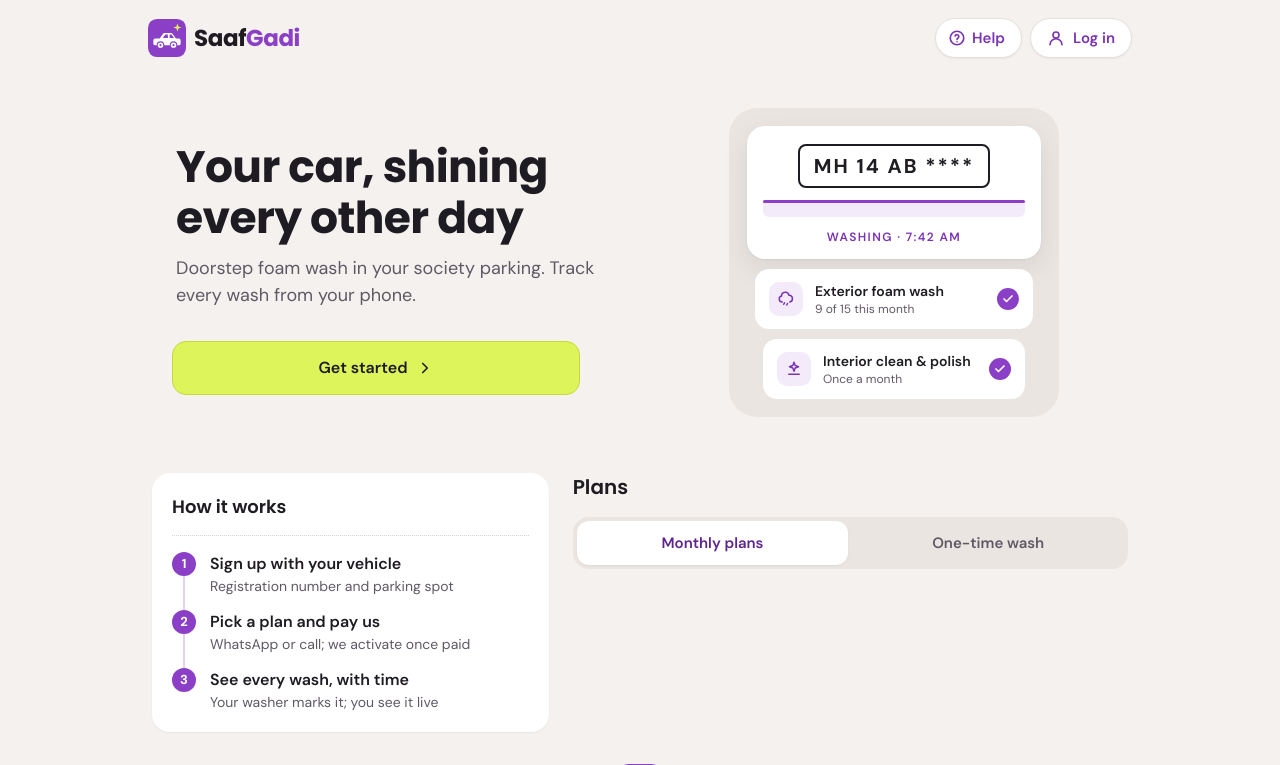
it: landing page › popover shows sign-up and the numbers from settings
Click the button "Help".
click(978, 38)  # box [935, 18, 1022, 58]
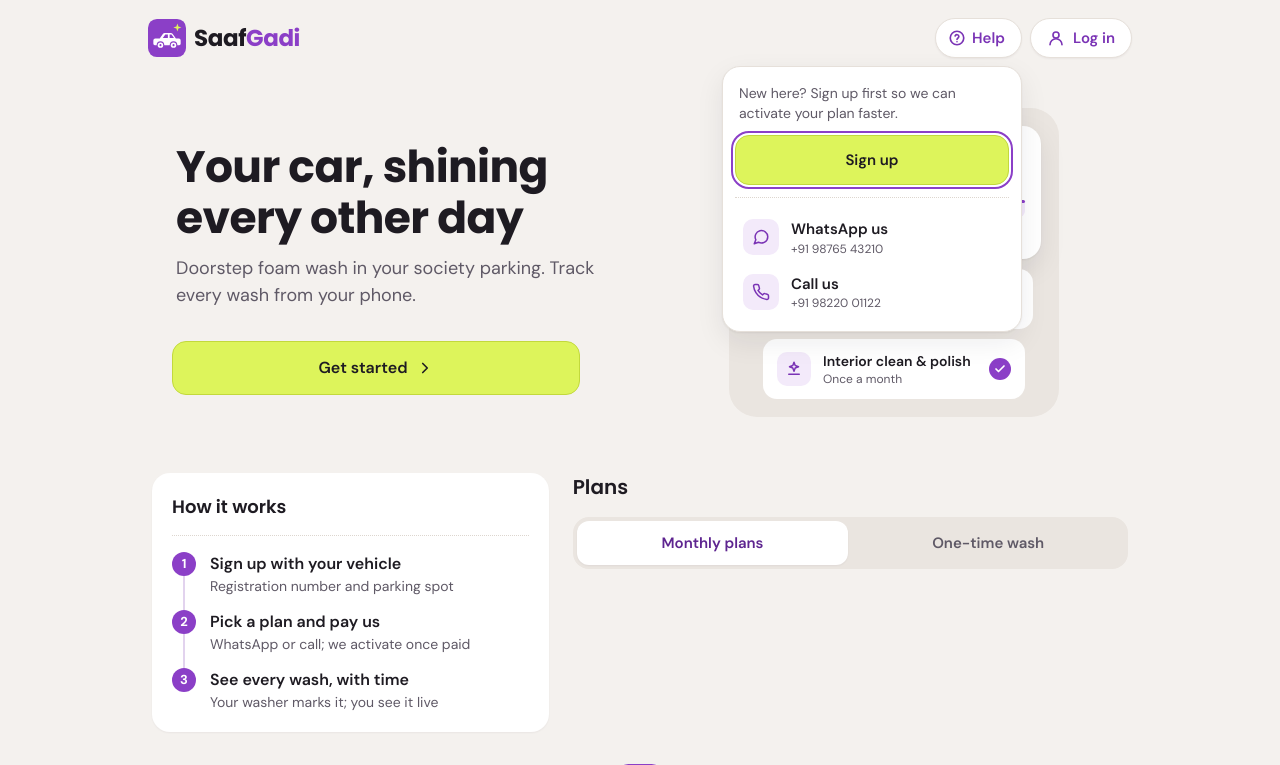
Result: the text "New here? Sign up first so we can activate your plan faster." is shown at [739, 84, 956, 122]
Result: the link "WhatsApp us +91 98765 43210" is shown at [743, 219, 888, 256]
Result: the link "Call us +91 98220 01122" is shown at [743, 274, 881, 311]
